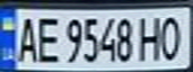4: (100, 14, 121, 63)
5: (78, 15, 100, 63)
8: (115, 14, 139, 63)
9: (60, 13, 84, 64)
A: (12, 12, 42, 64)
E: (33, 12, 60, 64)
H: (136, 12, 166, 62)
O: (157, 12, 187, 61)
